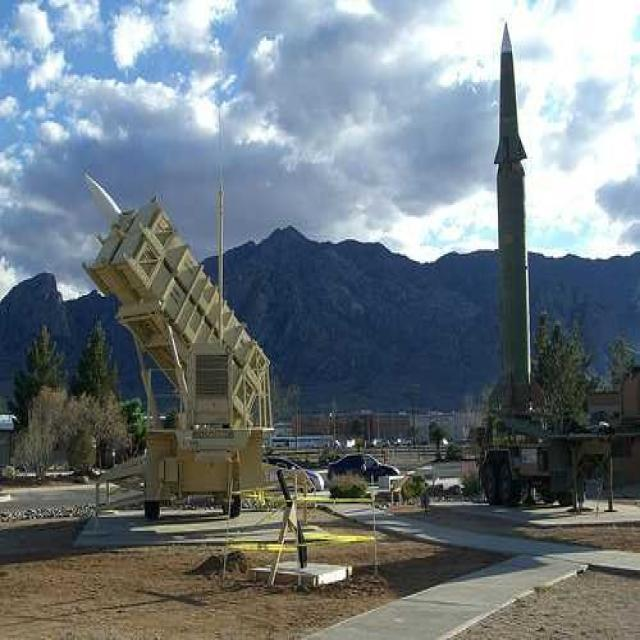missile: (491, 19, 544, 412)
